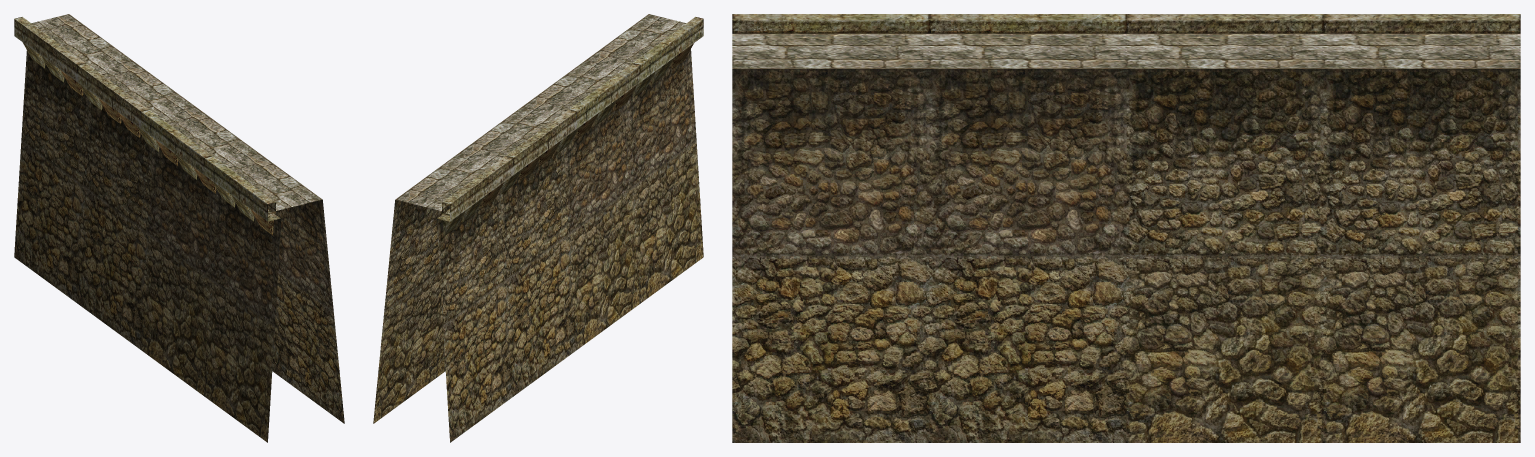
File: hrz98.glb
3 views of the same model, side by side, from view 1: azimuth 30°, elevation 25°; view 2: azimuth 150°, elevation 25°; view 3: azimuth 270°, elevation 25° (orthographic). The views are drawn at different scales.
Visible parts, largest first — view 1: hrz98; view 2: hrz98; view 3: hrz98.
Part boxes in pixels (left/top/right/bottom): hrz98: left=14, top=14, right=344, bottom=442; hrz98: left=373, top=14, right=703, bottom=442; hrz98: left=732, top=14, right=1520, bottom=442.
Size of the model in its own units: 2.8 by 8.3 by 16.
8 materials, 8 textured.
